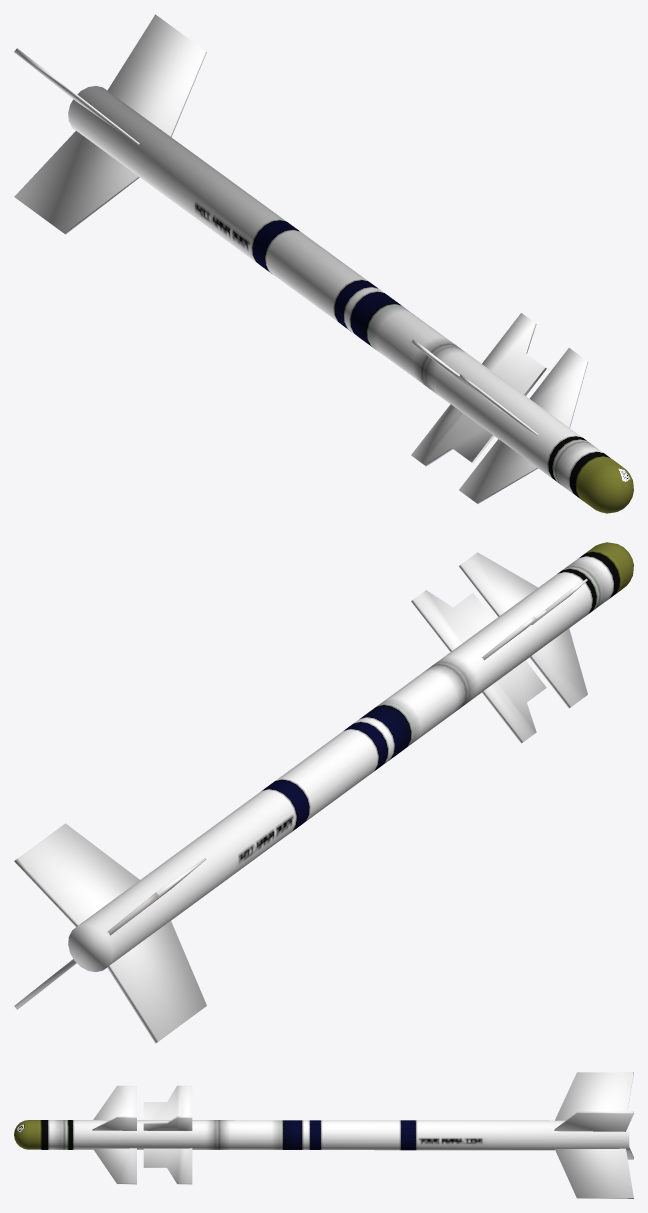
The model's file is Super530 missile.obj.
The picture shows the model from 3 angles, top to bottom: view 1: azimuth 30°, elevation 25°; view 2: azimuth 150°, elevation 25°; view 3: azimuth 270°, elevation 25°; orthographic projection. The views are drawn at different scales.
Parts seen in each view (by area): view 1: missile_super_r; view 2: missile_super_r; view 3: missile_super_r.
Boxes of the visible parts, <box> form: missile_super_r: <box>14,14,633,513</box>; missile_super_r: <box>14,542,633,1043</box>; missile_super_r: <box>14,1072,633,1198</box>.
Bounding box in the file's own units: 0.4953 × 0.4952 × 3.18.
